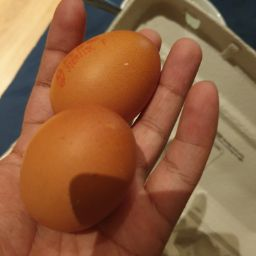Eggs: (8, 103, 144, 230), (28, 27, 169, 115)
